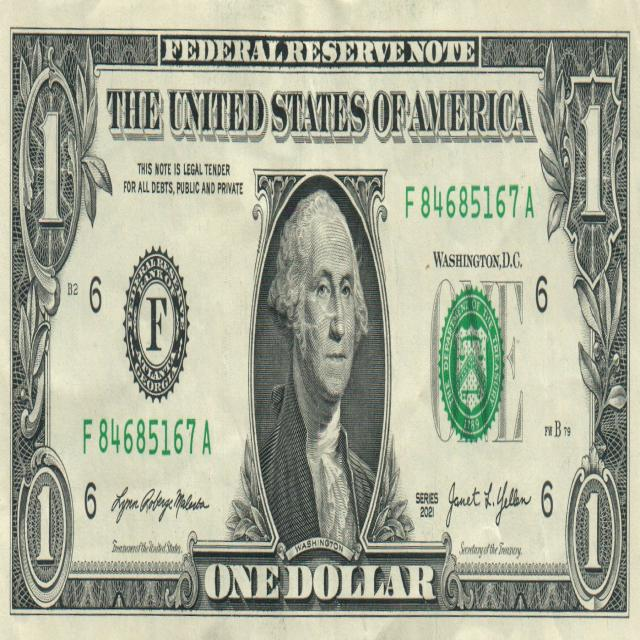SerialNumber: (84, 419, 210, 455), (406, 185, 533, 218)
